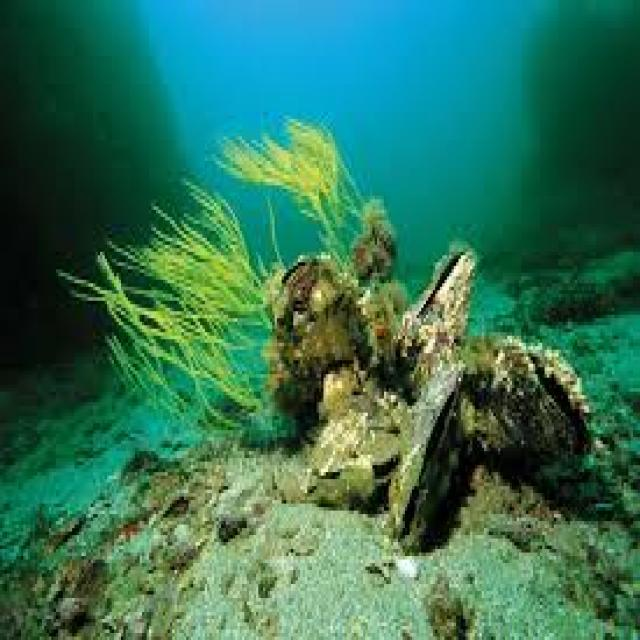Oyster- Indeterminate: (255, 252, 378, 422)
Oyster-Open: (382, 354, 475, 556), (384, 236, 501, 379), (463, 335, 591, 461), (301, 379, 411, 496)
